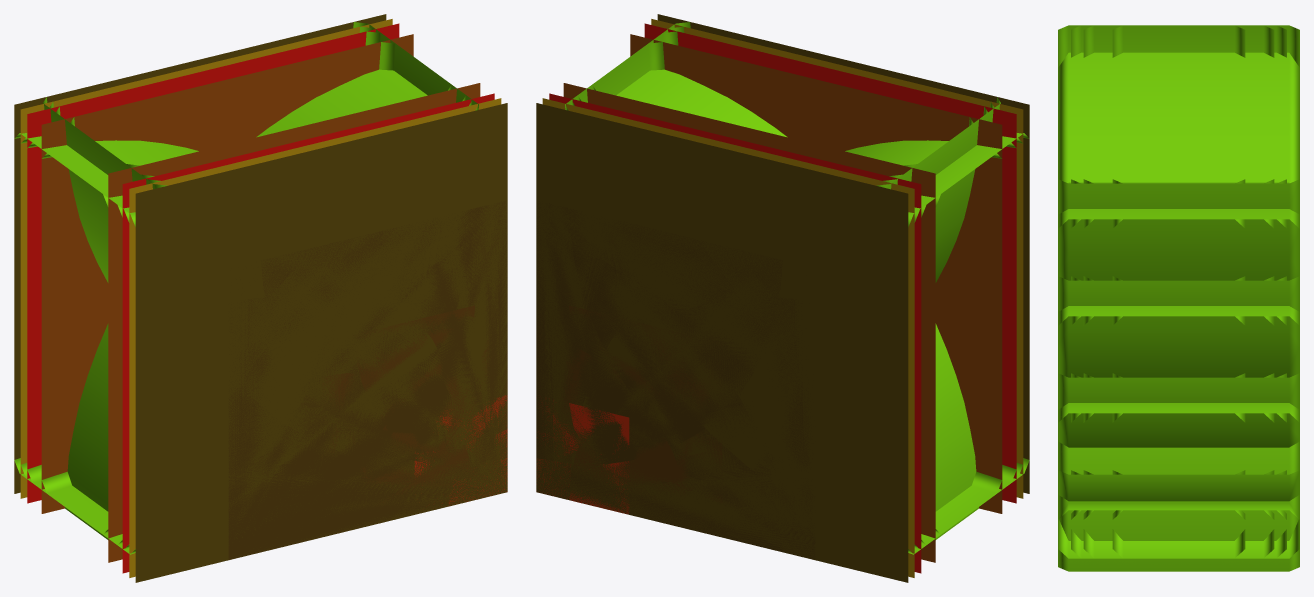
File: CornerInward.fbx
3 renders of one model, left to right at view 1: azimuth 30°, elevation 25°; view 2: azimuth 150°, elevation 25°; view 3: azimuth 270°, elevation 25°, orthographic.
Parts seen in each view (by area): view 1: CornerInward_00.06.00.00_04.04_Bump_F_0, CornerInward_00.00.00.06_04.04_Bump_F_0, CornerInward_00.00.06.00_04.04_Bump_F_0, CornerInward_06.00.00.00_04.04_Bump_F_0, CornerInward_00.05.00.00_04.04_Bump_F_0, CornerInward_00.00.06.00_03.03_Bump_F_0, CornerInward_00.00.00.06_03.03_Bump_F_0, CornerInward_05.00.00.00_04.04_Bump_F_0, CornerInward_06.00.00.00_03.03_Bump_F_0, CornerInward_00.00.05.00_04.04_Bump_F_0, CornerInward_00.02.00.00_04.04_Bump_F_0, CornerInward_00.00.02.00_04.04_Bump_F_0 (+10 smaller); view 2: CornerInward_00.00.06.00_04.04_Bump_F_0, CornerInward_00.06.00.00_04.04_Bump_F_0, CornerInward_00.00.00.06_04.04_Bump_F_0, CornerInward_00.05.00.00_04.04_Bump_F_0, CornerInward_06.00.00.00_04.04_Bump_F_0, CornerInward_06.00.00.00_03.03_Bump_F_0, CornerInward_05.00.00.00_04.04_Bump_F_0, CornerInward_00.00.00.06_03.03_Bump_F_0, CornerInward_00.00.06.00_03.03_Bump_F_0, CornerInward_00.00.05.00_04.04_Bump_F_0, CornerInward_00.02.00.00_04.04_Bump_F_0, CornerInward_00.00.02.00_04.04_Bump_F_0 (+11 smaller); view 3: CornerInward_00.00.06.00_04.04_Bump_F_0, CornerInward_00.06.00.00_04.04_Bump_F_0, CornerInward_00.06.00.00_03.03_Bump_F_0, CornerInward_00.06.00.00_02.02_Bump_F_0, CornerInward_00.00.05.00_04.04_Bump_F_0, CornerInward_00.06.00.00_01.01_Bump_F_0, CornerInward_00.00.04.00_04.04_Bump_F_0, CornerInward_06.00.00.00_04.04_Bump_F_0, CornerInward_00.05.00.00_04.04_Bump_F_0, CornerInward_00.05.00.00_03.03_Bump_F_0, CornerInward_06.00.00.00_01.01_Bump_F_0, CornerInward_00.00.00.06_04.04_Bump_F_0 (+26 smaller).
Part boxes in pixels (box(x1,y1,x2,y2)): CornerInward_00.06.00.00_04.04_Bump_F_0: box(14, 22, 478, 554); CornerInward_00.00.00.06_04.04_Bump_F_0: box(65, 69, 507, 574); CornerInward_00.00.06.00_04.04_Bump_F_0: box(14, 133, 471, 582); CornerInward_06.00.00.00_04.04_Bump_F_0: box(43, 14, 507, 465); CornerInward_00.05.00.00_04.04_Bump_F_0: box(41, 42, 451, 534); CornerInward_00.00.06.00_03.03_Bump_F_0: box(228, 296, 473, 559); CornerInward_00.00.00.06_03.03_Bump_F_0: box(262, 241, 507, 546); CornerInward_05.00.00.00_04.04_Bump_F_0: box(70, 34, 480, 276); CornerInward_06.00.00.00_03.03_Bump_F_0: box(261, 201, 507, 461); CornerInward_00.00.05.00_04.04_Bump_F_0: box(41, 144, 193, 562); CornerInward_00.02.00.00_04.04_Bump_F_0: box(27, 31, 465, 544); CornerInward_00.00.02.00_04.04_Bump_F_0: box(27, 142, 129, 573); CornerInward_00.00.06.00_04.04_Bump_F_0: box(569, 133, 1029, 582); CornerInward_00.06.00.00_04.04_Bump_F_0: box(565, 22, 1029, 554); CornerInward_00.00.00.06_04.04_Bump_F_0: box(536, 69, 978, 574); CornerInward_00.05.00.00_04.04_Bump_F_0: box(592, 42, 1002, 534); CornerInward_06.00.00.00_04.04_Bump_F_0: box(536, 14, 1000, 466); CornerInward_06.00.00.00_03.03_Bump_F_0: box(536, 203, 782, 463); CornerInward_05.00.00.00_04.04_Bump_F_0: box(563, 34, 973, 276); CornerInward_00.00.00.06_03.03_Bump_F_0: box(536, 234, 782, 552); CornerInward_00.00.06.00_03.03_Bump_F_0: box(569, 297, 815, 559); CornerInward_00.00.05.00_04.04_Bump_F_0: box(850, 144, 1002, 562); CornerInward_00.02.00.00_04.04_Bump_F_0: box(577, 31, 1016, 544); CornerInward_00.00.02.00_04.04_Bump_F_0: box(914, 142, 1016, 573); CornerInward_00.00.06.00_04.04_Bump_F_0: box(1058, 52, 1299, 571); CornerInward_00.06.00.00_04.04_Bump_F_0: box(1058, 179, 1299, 280); CornerInward_00.06.00.00_03.03_Bump_F_0: box(1058, 276, 1299, 377); CornerInward_00.06.00.00_02.02_Bump_F_0: box(1058, 373, 1299, 447); CornerInward_00.00.05.00_04.04_Bump_F_0: box(1123, 52, 1234, 571); CornerInward_00.06.00.00_01.01_Bump_F_0: box(1058, 470, 1299, 501); CornerInward_00.00.04.00_04.04_Bump_F_0: box(1081, 52, 1276, 571); CornerInward_06.00.00.00_04.04_Bump_F_0: box(1058, 25, 1299, 551); CornerInward_00.05.00.00_04.04_Bump_F_0: box(1112, 179, 1245, 280); CornerInward_00.05.00.00_03.03_Bump_F_0: box(1112, 276, 1245, 377); CornerInward_06.00.00.00_01.01_Bump_F_0: box(1058, 519, 1299, 558); CornerInward_00.00.00.06_04.04_Bump_F_0: box(1058, 182, 1299, 228).
Size of the model in its own units: 1000 by 1000 by 565.
